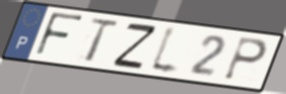2: (186, 34, 229, 78)
F: (33, 10, 86, 59)
L: (146, 24, 182, 79)
P: (221, 35, 270, 83)
T: (83, 17, 121, 65)
Z: (111, 21, 160, 70)
